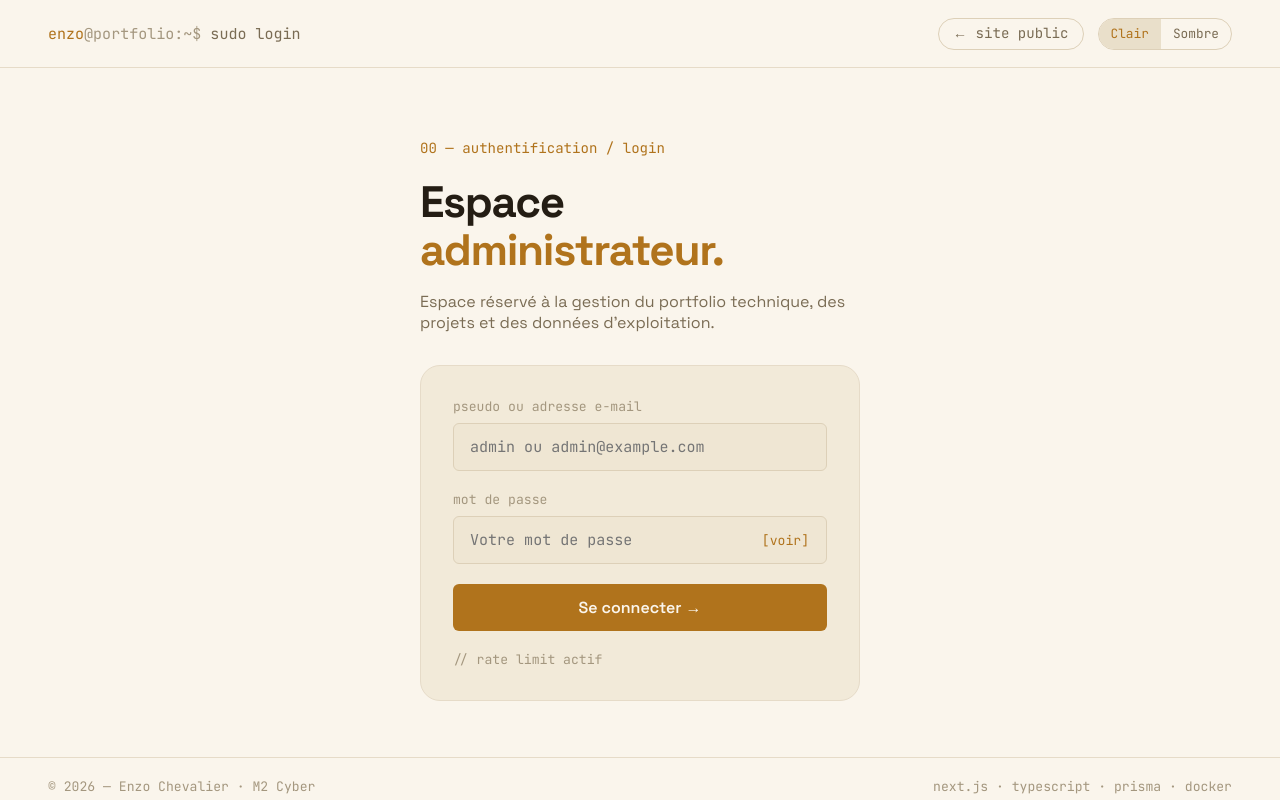
Test case: AdminLoginPage › toggles password visibility
What coordinates should you click on to do the following:
click the button with aria-label "Afficher le mot de passe"
I would click on:
 (785, 540)
Its box is [756,530,815,549].
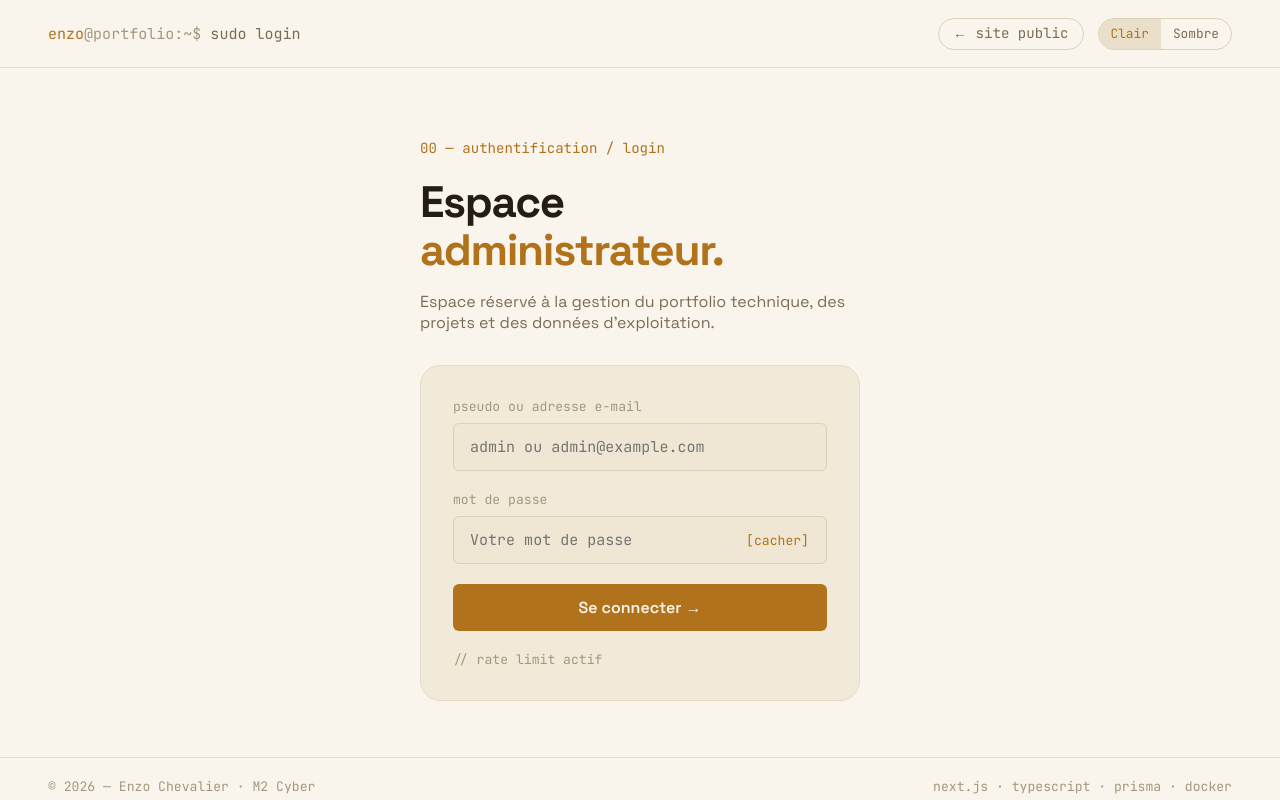
Check: the button with aria-label "Masquer le mot de passe" is shown, box [740,530,815,549]
